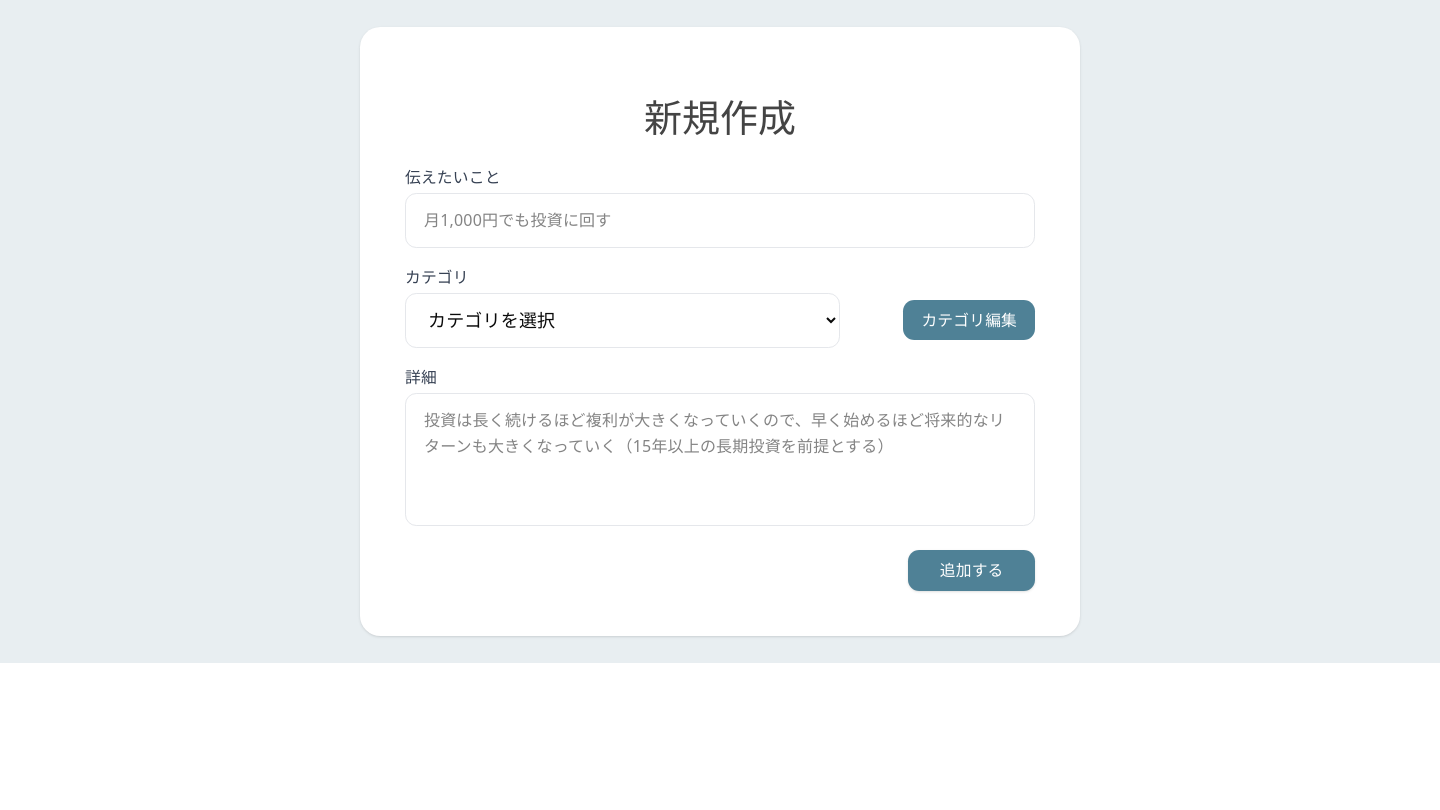
Test: PostNew › カテゴリ編集ボタンをクリックするとカテゴリ管理画面に遷移する
Click the button "カテゴリ編集".
click(969, 320)  # box [903,300,1035,340]
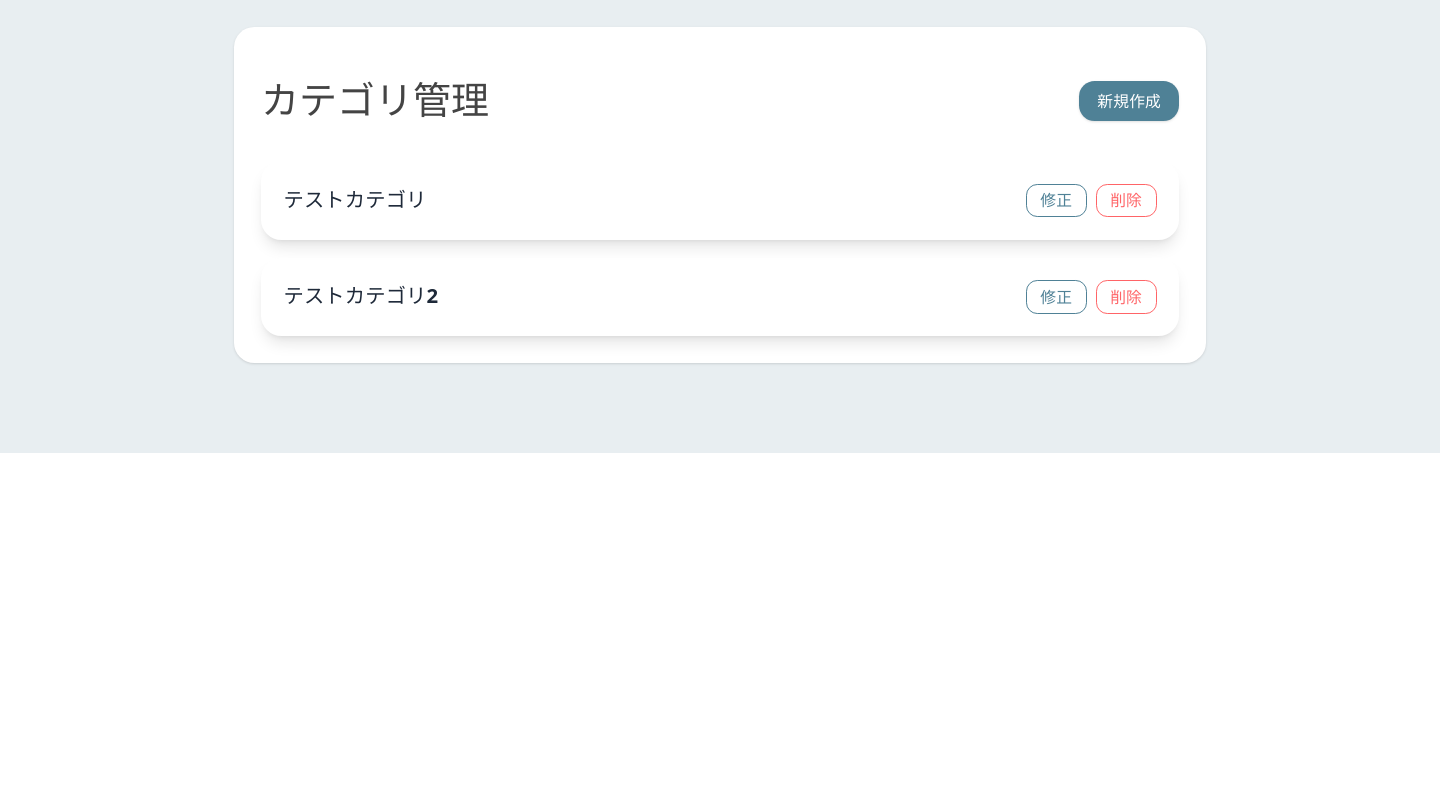
Now the heading "カテゴリ管理" is shown, box [261,54,489,112]
